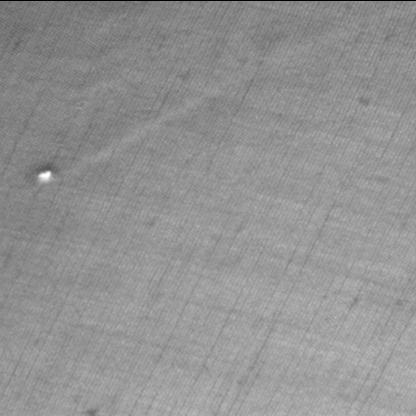hole: (34, 168, 56, 184)
